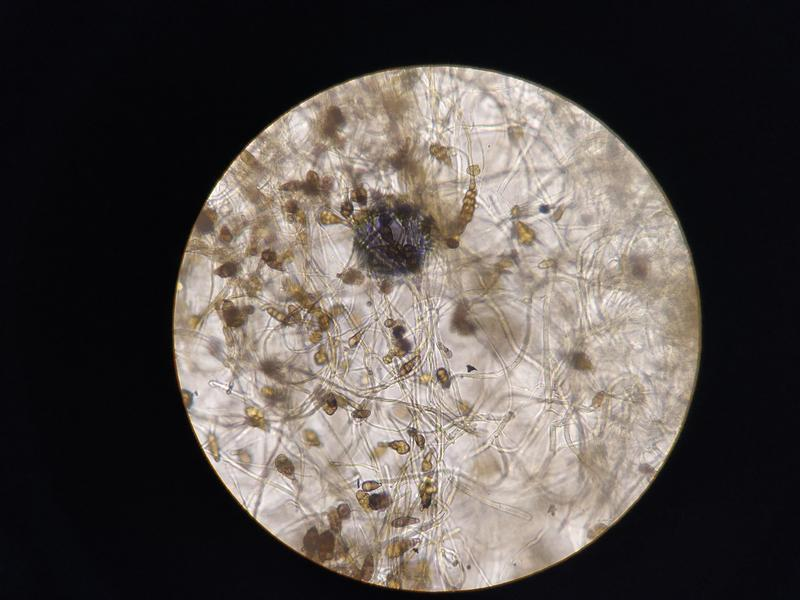fungus: (250, 155, 620, 510)
